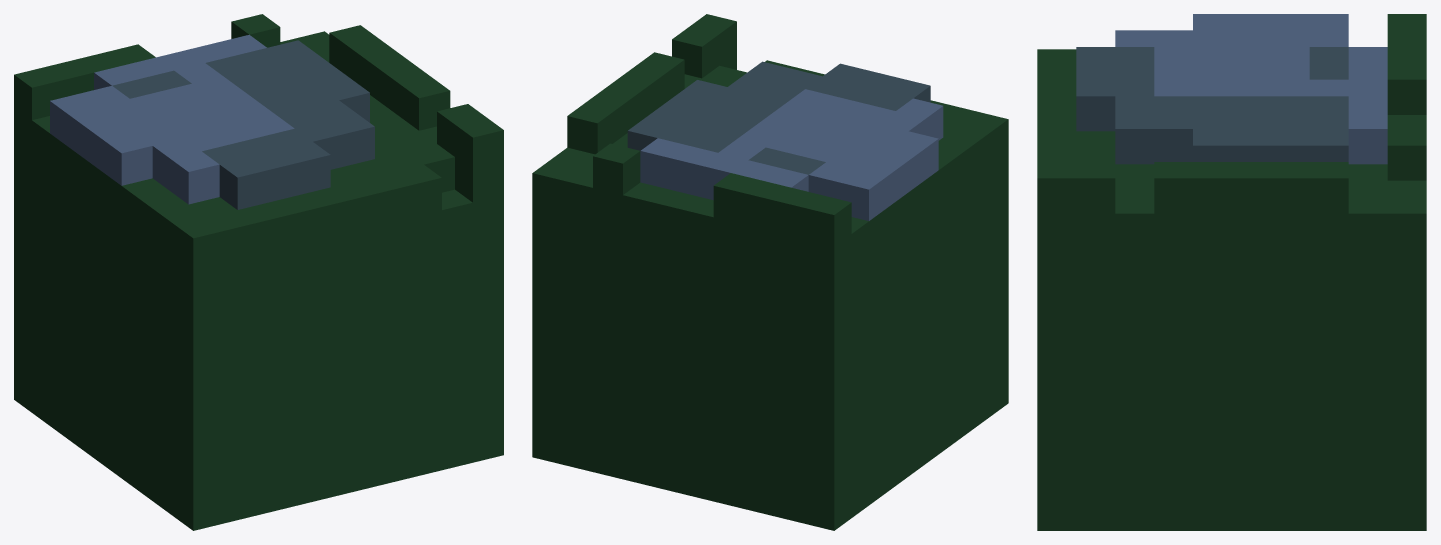
Rendered from Floor 4.obj.
3 views of the same model, side by side, from view 1: azimuth 30°, elevation 25°; view 2: azimuth 150°, elevation 25°; view 3: azimuth 270°, elevation 25° (orthographic). The views are drawn at different scales.
Bounding box in the file's own units: 10 × 10 × 10.
Materials: 1 (1 with a texture image).
